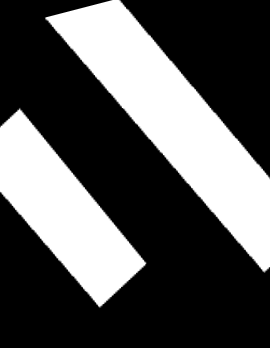parkingspot: (45, 0, 270, 272), (0, 109, 146, 307)
